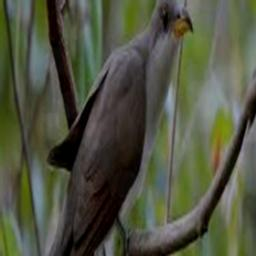Cuckoo: (30, 0, 192, 256)
